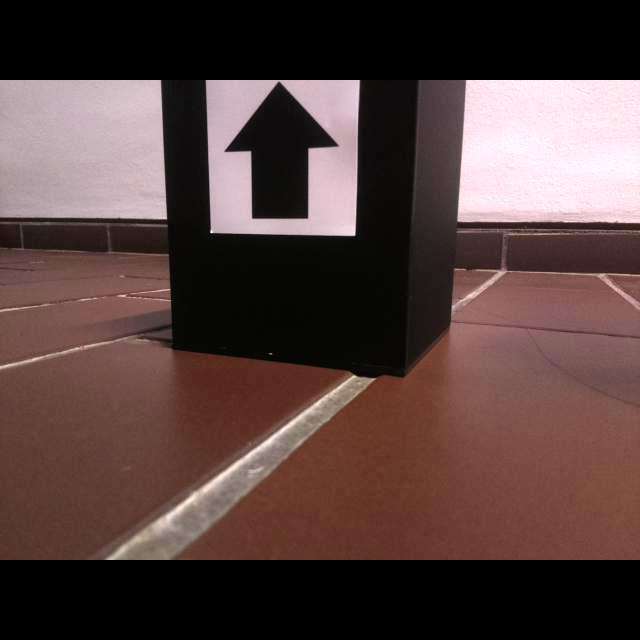UP: (223, 81, 340, 219)
